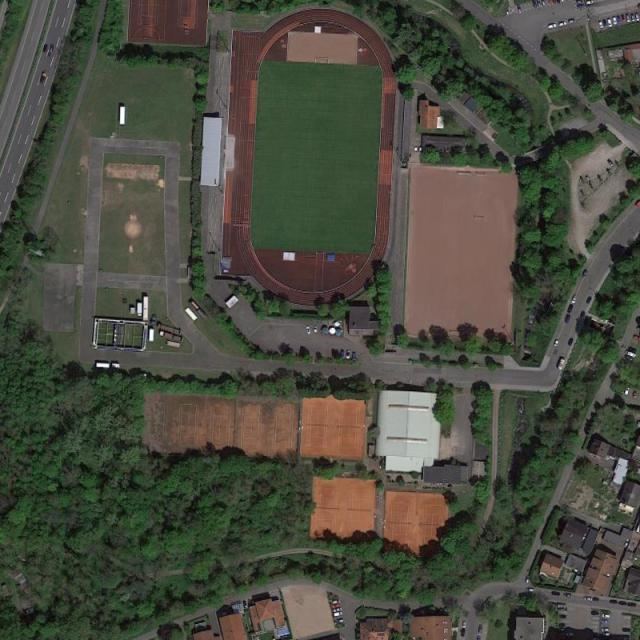vehicle: (558, 358, 566, 370), (41, 70, 48, 82), (626, 351, 637, 358), (547, 23, 558, 30), (607, 158, 615, 167), (333, 611, 343, 618), (567, 304, 574, 314), (571, 294, 578, 304), (607, 18, 613, 29), (585, 296, 592, 305), (628, 347, 638, 353), (332, 603, 342, 609), (306, 325, 312, 335), (138, 302, 142, 317), (567, 338, 574, 346), (624, 387, 630, 396), (333, 607, 342, 613), (554, 339, 560, 348), (565, 314, 571, 323), (532, 0, 538, 9), (42, 44, 48, 53), (577, 3, 586, 9), (598, 21, 604, 30), (602, 19, 608, 28), (634, 200, 640, 209), (625, 538, 630, 548), (583, 597, 593, 602), (332, 600, 342, 605), (626, 14, 631, 24), (580, 310, 586, 318), (335, 350, 341, 358), (582, 270, 588, 278), (630, 14, 636, 22), (551, 591, 560, 596), (461, 629, 466, 638), (628, 602, 637, 607), (331, 349, 336, 358), (558, 22, 567, 27), (517, 5, 522, 14), (49, 44, 54, 53), (617, 16, 622, 25), (613, 17, 618, 26), (635, 13, 640, 22), (414, 146, 423, 151), (336, 619, 344, 624), (602, 632, 610, 637), (353, 352, 357, 362), (346, 350, 350, 360), (576, 1, 586, 5), (586, 0, 594, 5), (621, 14, 626, 22), (479, 625, 483, 634), (526, 575, 530, 584), (622, 628, 631, 632), (601, 628, 610, 632), (602, 614, 611, 618), (591, 611, 600, 615), (341, 350, 345, 359), (568, 19, 577, 23), (564, 593, 571, 598), (602, 619, 609, 624), (526, 588, 534, 592), (634, 391, 638, 399), (610, 600, 618, 604), (566, 633, 574, 637), (619, 602, 627, 606), (314, 326, 318, 334), (634, 335, 640, 340), (593, 597, 599, 602), (462, 622, 467, 628), (541, 1, 546, 7), (537, 1, 542, 6), (559, 615, 566, 618), (552, 1, 557, 5), (637, 3, 640, 9), (478, 636, 482, 640), (556, 1, 561, 4), (564, 1, 569, 2), (561, 1, 565, 2)
